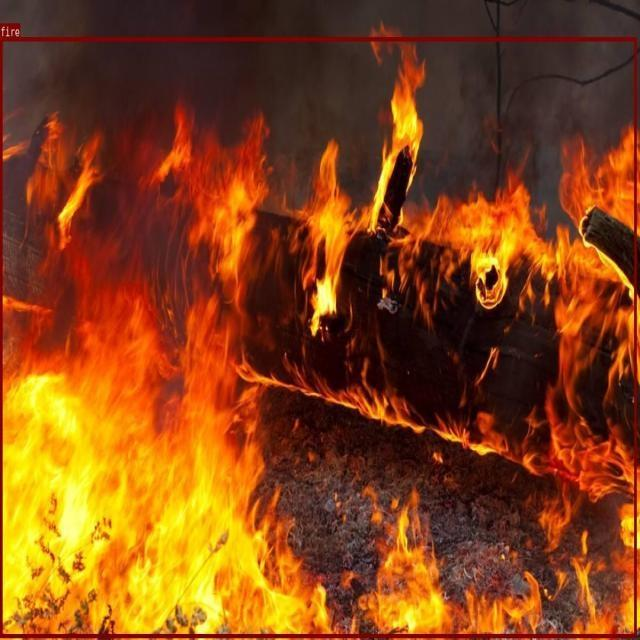fire: (0, 37, 636, 637)
